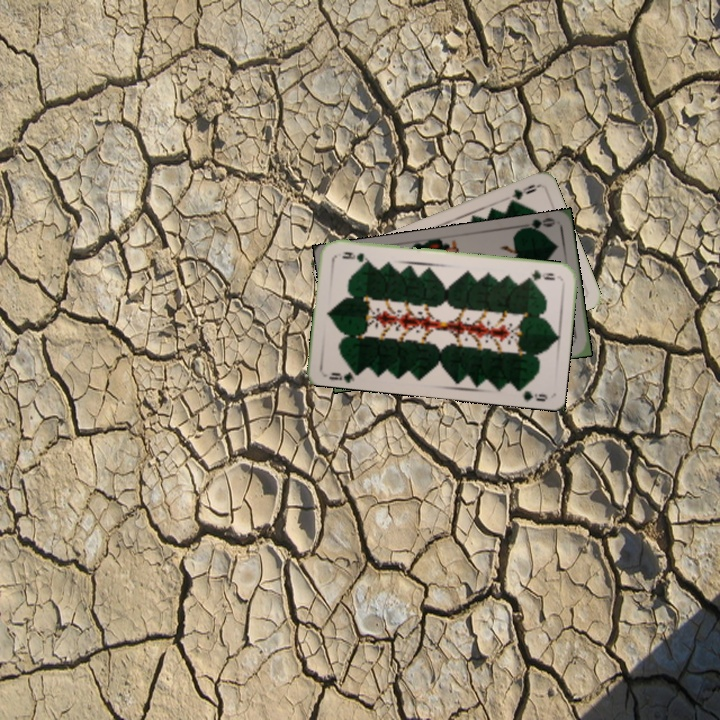G9: (505, 180, 541, 206), (325, 364, 362, 384), (521, 266, 558, 283)
GO: (516, 214, 556, 236)
